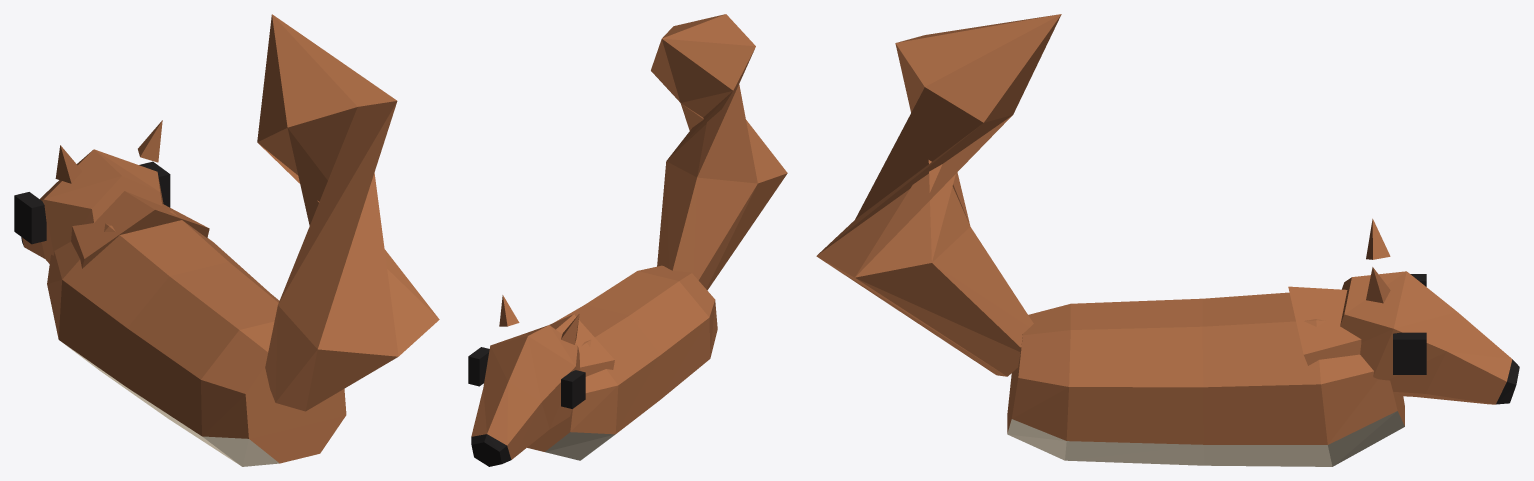
File: animal_squirrel.obj
The picture shows the model from 3 angles, left to right: view 1: azimuth 30°, elevation 25°; view 2: azimuth 150°, elevation 25°; view 3: azimuth 270°, elevation 25°; orthographic projection. The views are drawn at different scales.
Visible parts, largest first — view 1: animal_squirrel; view 2: animal_squirrel; view 3: animal_squirrel.
Part boxes in pixels (box(x1,y1,x2,y2)): animal_squirrel: box(14, 14, 439, 466); animal_squirrel: box(468, 14, 787, 466); animal_squirrel: box(816, 14, 1519, 466).
Bounding box in the file's own units: 0.1614 × 0.4589 × 0.668.
